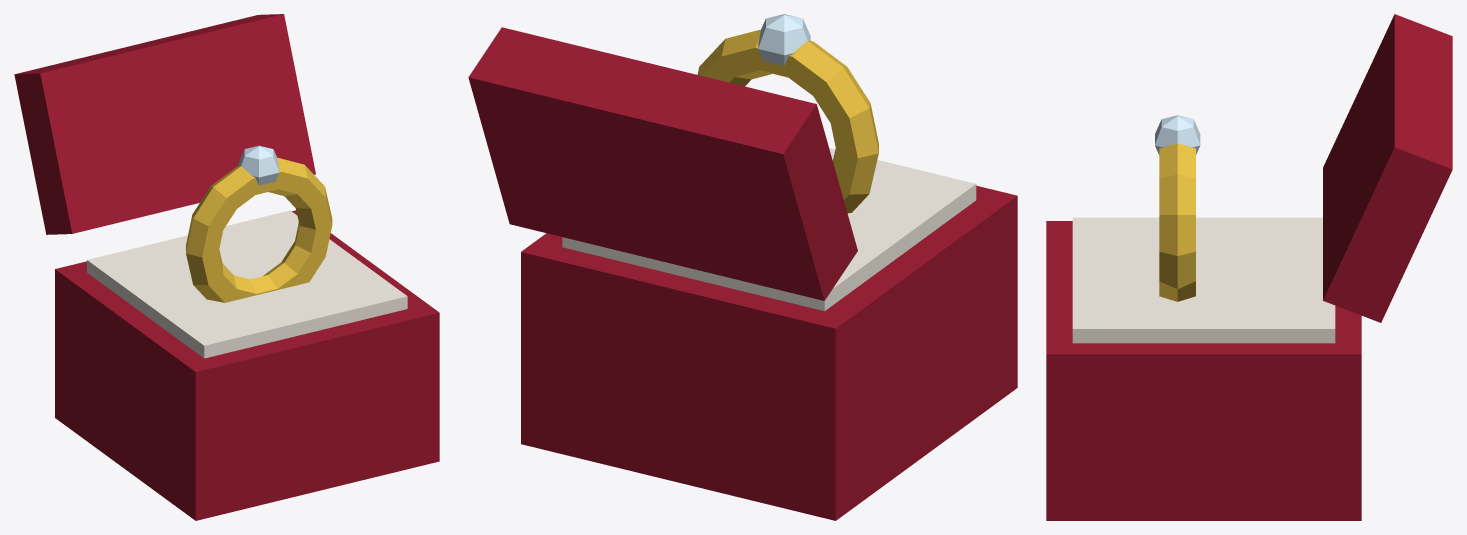
The model's file is wedding_ring_box.glb.
The picture shows the model from 3 angles, left to right: view 1: azimuth 30°, elevation 25°; view 2: azimuth 150°, elevation 25°; view 3: azimuth 270°, elevation 25°; orthographic projection. The views are drawn at different scales.
Parts seen in each view (by area): view 1: box_ring_velvet, box_ring_satin, ring_wedding_gold, ring_ring_stone; view 2: box_ring_velvet, box_ring_satin, ring_wedding_gold, ring_ring_stone; view 3: box_ring_velvet, box_ring_satin, ring_wedding_gold, ring_ring_stone.
Boxes of the visible parts, x1=… form: box_ring_velvet: x1=14, y1=14, x2=439, y2=520; box_ring_satin: x1=87, y1=210, x2=407, y2=358; ring_wedding_gold: x1=186, y1=157, x2=332, y2=302; ring_ring_stone: x1=238, y1=145, x2=279, y2=185; box_ring_velvet: x1=468, y1=27, x2=1017, y2=520; box_ring_satin: x1=562, y1=148, x2=976, y2=311; ring_wedding_gold: x1=697, y1=29, x2=878, y2=213; ring_ring_stone: x1=758, y1=14, x2=810, y2=65; box_ring_velvet: x1=1046, y1=14, x2=1452, y2=520; box_ring_satin: x1=1072, y1=217, x2=1335, y2=343; ring_wedding_gold: x1=1159, y1=143, x2=1195, y2=301; ring_ring_stone: x1=1155, y1=115, x2=1200, y2=154.
Bounding box in the file's own units: 0.06 × 0.0785 × 0.0773.
